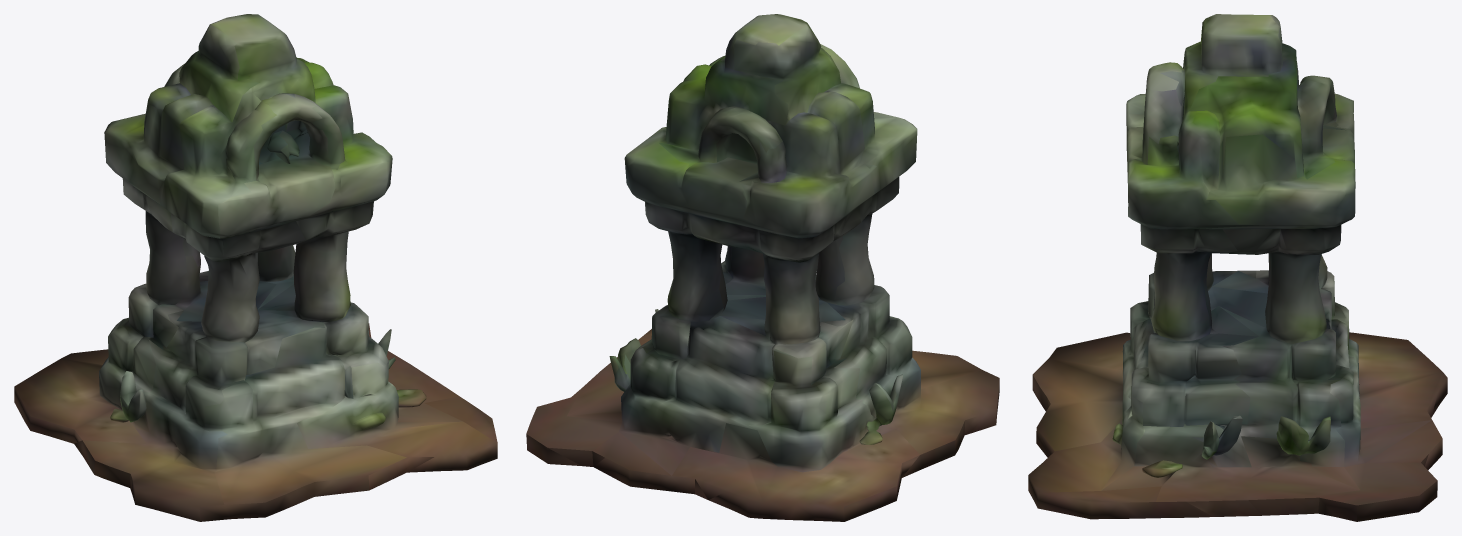
Rendered from f14_estatua_ruina.glb.
3 renders of one model, left to right at view 1: azimuth 30°, elevation 25°; view 2: azimuth 150°, elevation 25°; view 3: azimuth 270°, elevation 25°, orthographic. The views are drawn at different scales.
Visible parts, largest first — view 1: f14_estatua_ruina; view 2: f14_estatua_ruina; view 3: f14_estatua_ruina.
Boxes of the visible parts, bbox=[...] form: f14_estatua_ruina: bbox=[14, 14, 497, 521]; f14_estatua_ruina: bbox=[526, 14, 999, 521]; f14_estatua_ruina: bbox=[1028, 14, 1447, 521].
Size of the model in its own units: 0.5595 by 0.6073 by 0.5652.
Materials: 1 (1 with a texture image).
